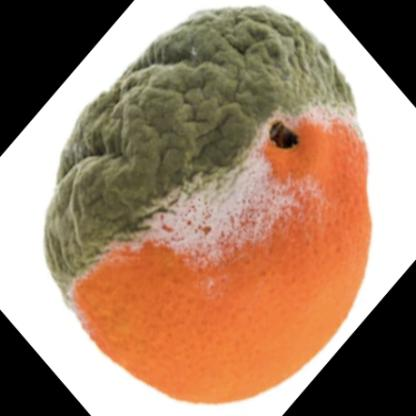rotten: (41, 5, 371, 406)
